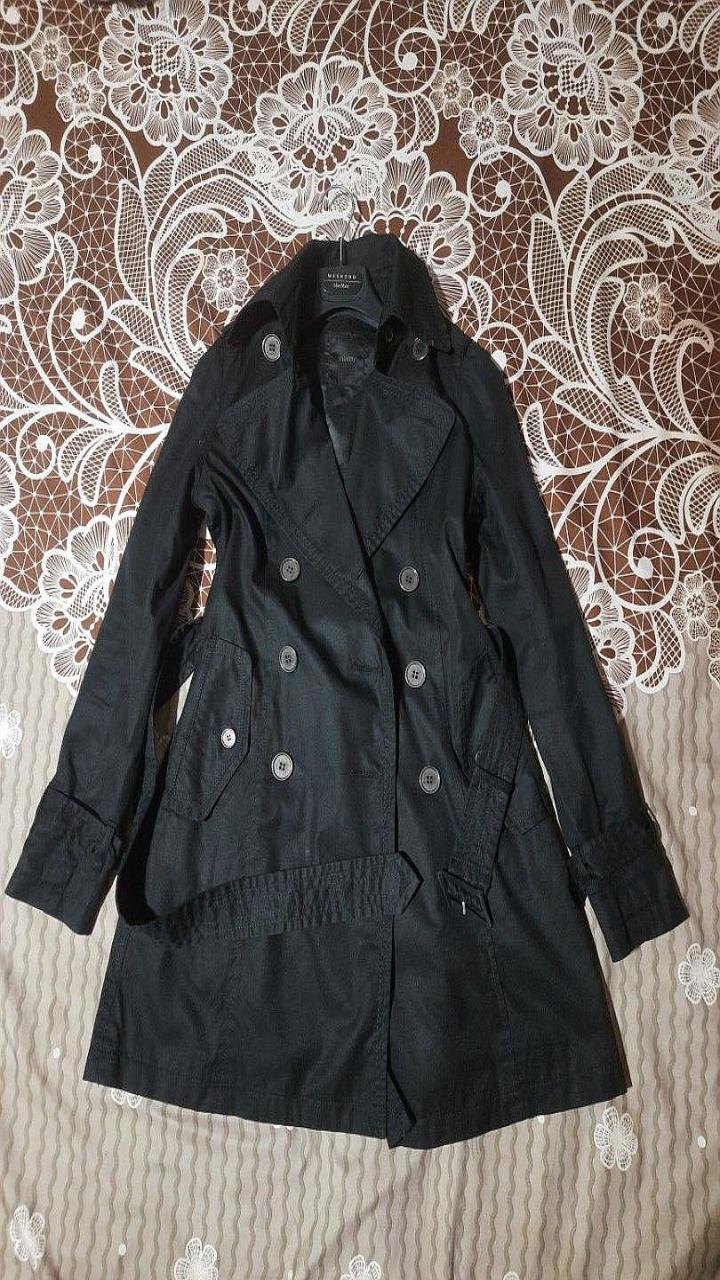Coat: (5, 232, 688, 1147)
